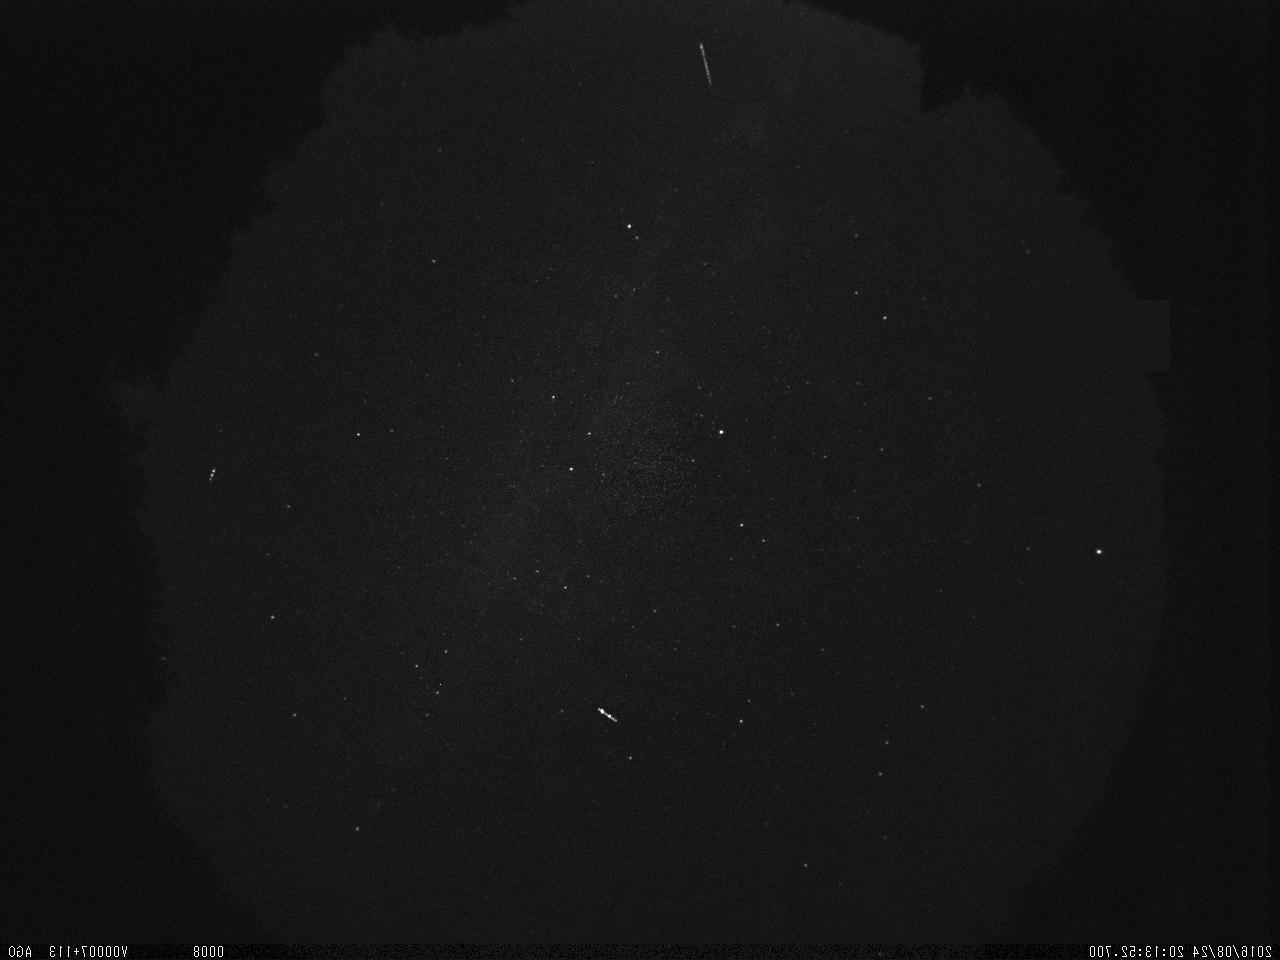meteor: (691, 43, 715, 87)
